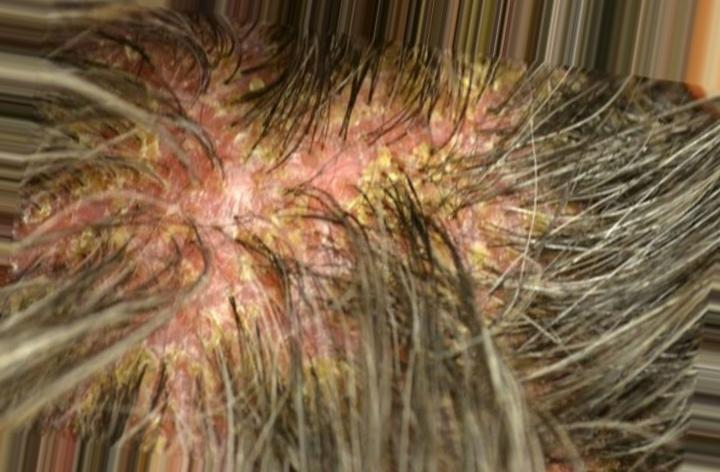Folliculitis: (36, 86, 418, 320)
